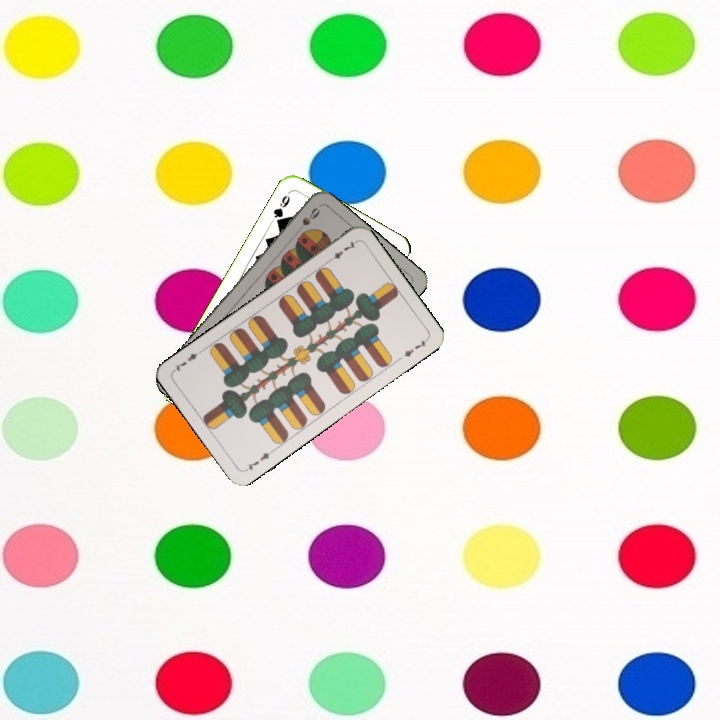E7: (323, 237, 359, 265), (241, 446, 277, 474)
G9: (269, 188, 293, 227)
S9: (291, 203, 322, 237)
